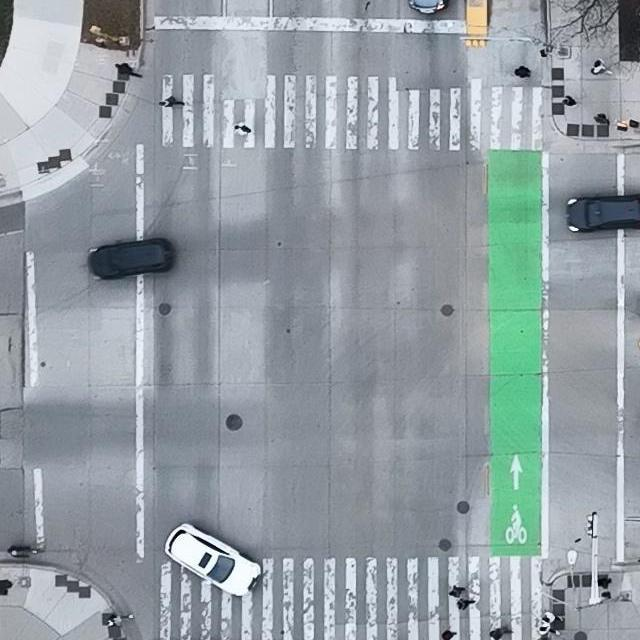car: (164, 522, 261, 596), (86, 239, 174, 279), (566, 194, 640, 233), (409, 0, 447, 13)
